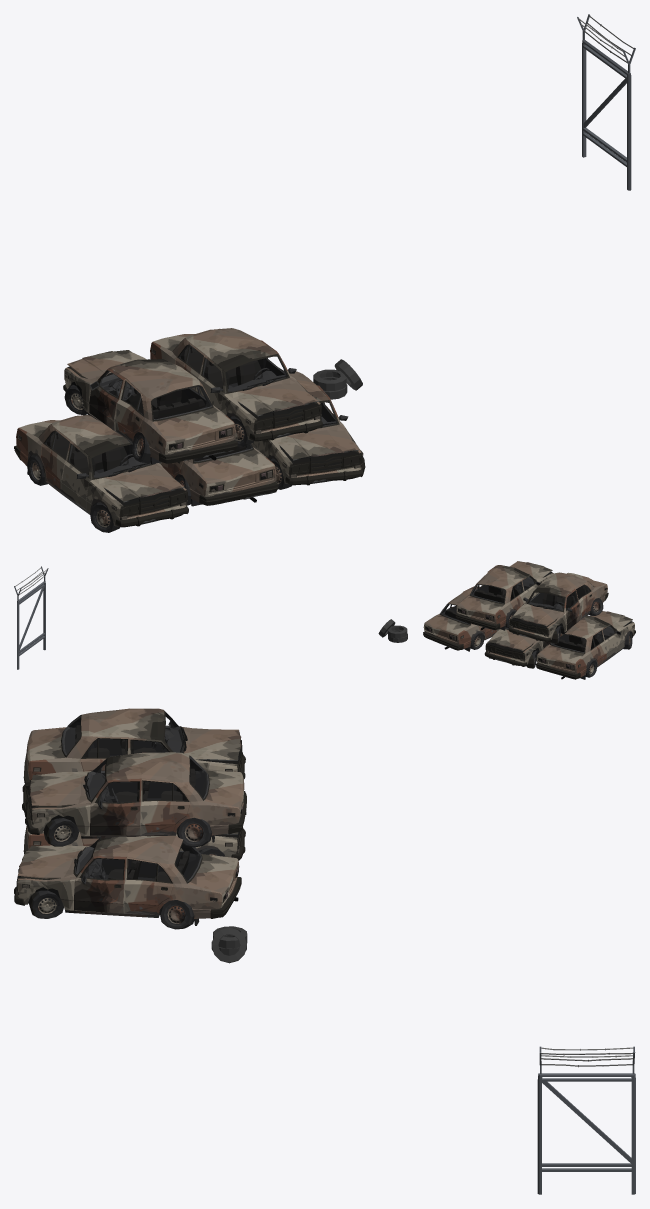
Rendered from MoreBackground.glb.
The picture shows the model from 3 angles, top to bottom: view 1: azimuth 30°, elevation 25°; view 2: azimuth 150°, elevation 25°; view 3: azimuth 270°, elevation 25°; orthographic projection. The views are drawn at different scales.
Visible parts, largest first — view 1: SM_Veh_Car_Destroyed_01__17_, SM_Veh_Car_Destroyed_01__14_, SM_Veh_Car_Destroyed_01__18_, SM_Veh_Car_Destroyed_01__16_, SM_Veh_Car_Destroyed_01__15_, SM_Prop_WireFence_01__39_, SM_Prop_TireStack_01__10_; view 2: SM_Veh_Car_Destroyed_01__17_, SM_Veh_Car_Destroyed_01__14_, SM_Veh_Car_Destroyed_01__18_, SM_Veh_Car_Destroyed_01__16_, SM_Veh_Car_Destroyed_01__15_, SM_Prop_WireFence_01__39_, SM_Prop_TireStack_01__10_; view 3: SM_Veh_Car_Destroyed_01__18_, SM_Veh_Car_Destroyed_01__16_, SM_Veh_Car_Destroyed_01__17_, SM_Prop_WireFence_01__39_, SM_Veh_Car_Destroyed_01__15_, SM_Prop_TireStack_01__10_.
Part boxes in pixels (box(x1,y1,x2,y2)): SM_Veh_Car_Destroyed_01__17_: box(63, 350, 237, 464); SM_Veh_Car_Destroyed_01__14_: box(14, 415, 188, 532); SM_Veh_Car_Destroyed_01__18_: box(150, 328, 322, 446); SM_Veh_Car_Destroyed_01__16_: box(251, 371, 365, 489); SM_Veh_Car_Destroyed_01__15_: box(159, 443, 278, 506); SM_Prop_WireFence_01__39_: box(577, 14, 635, 190); SM_Prop_TireStack_01__10_: box(313, 359, 362, 399); SM_Veh_Car_Destroyed_01__17_: box(508, 572, 608, 643); SM_Veh_Car_Destroyed_01__14_: box(535, 611, 635, 679); SM_Veh_Car_Destroyed_01__18_: box(455, 561, 553, 630); SM_Veh_Car_Destroyed_01__16_: box(423, 586, 499, 651); SM_Veh_Car_Destroyed_01__15_: box(484, 627, 561, 668); SM_Prop_WireFence_01__39_: box(14, 566, 48, 669); SM_Prop_TireStack_01__10_: box(378, 619, 407, 642); SM_Veh_Car_Destroyed_01__18_: box(25, 752, 246, 847); SM_Veh_Car_Destroyed_01__16_: box(14, 834, 241, 929); SM_Veh_Car_Destroyed_01__17_: box(23, 708, 245, 789); SM_Prop_WireFence_01__39_: box(537, 1046, 635, 1194); SM_Veh_Car_Destroyed_01__15_: box(23, 825, 245, 860); SM_Prop_TireStack_01__10_: box(211, 926, 247, 963).
Size of the model in its own units: 18.91 by 3.29 by 12.82.
Materials: 2 (2 with a texture image).
